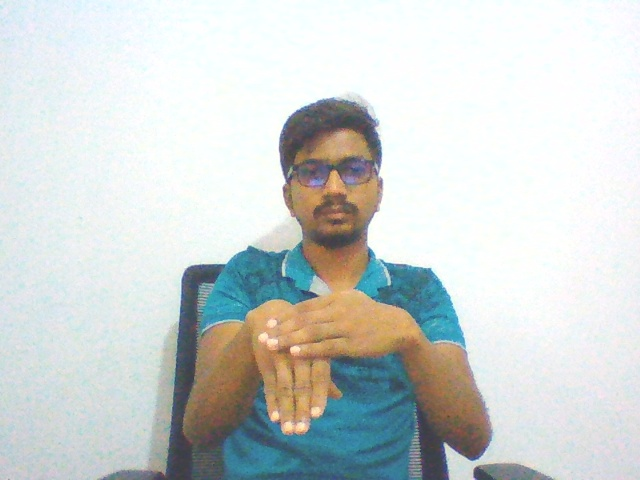pineapple: (240, 283, 420, 440)
